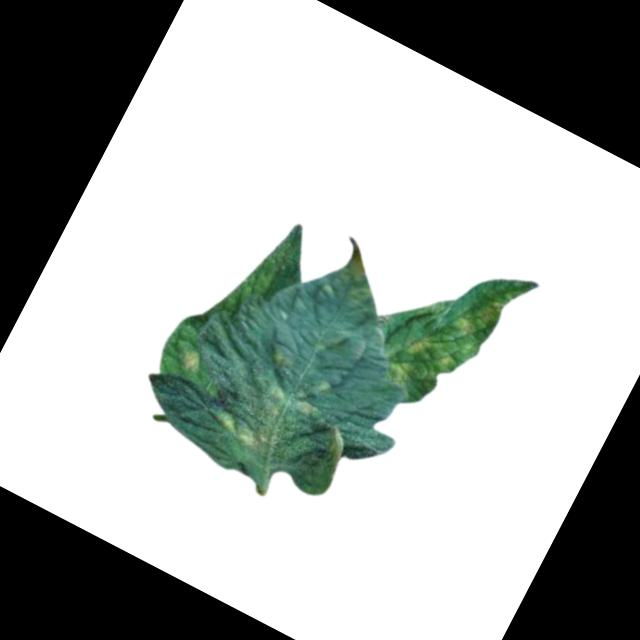Leaf_Mold: (372, 245, 518, 418), (206, 361, 325, 473), (175, 343, 210, 380)
